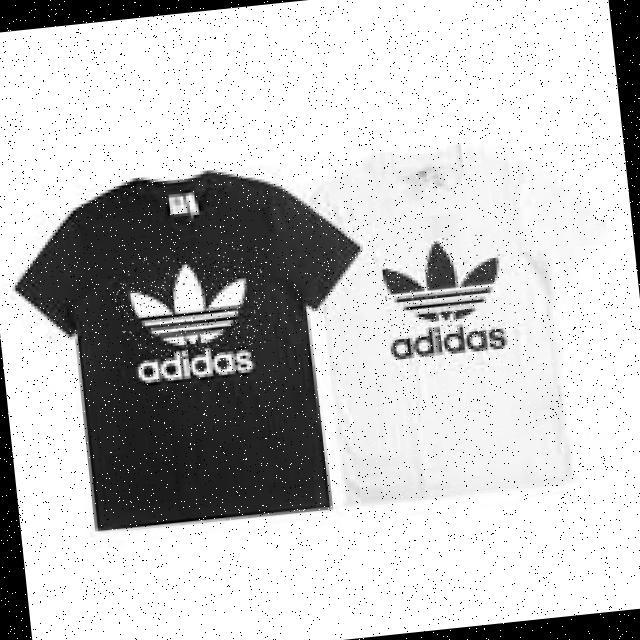Adidas: (110, 244, 276, 360), (371, 231, 519, 336)
